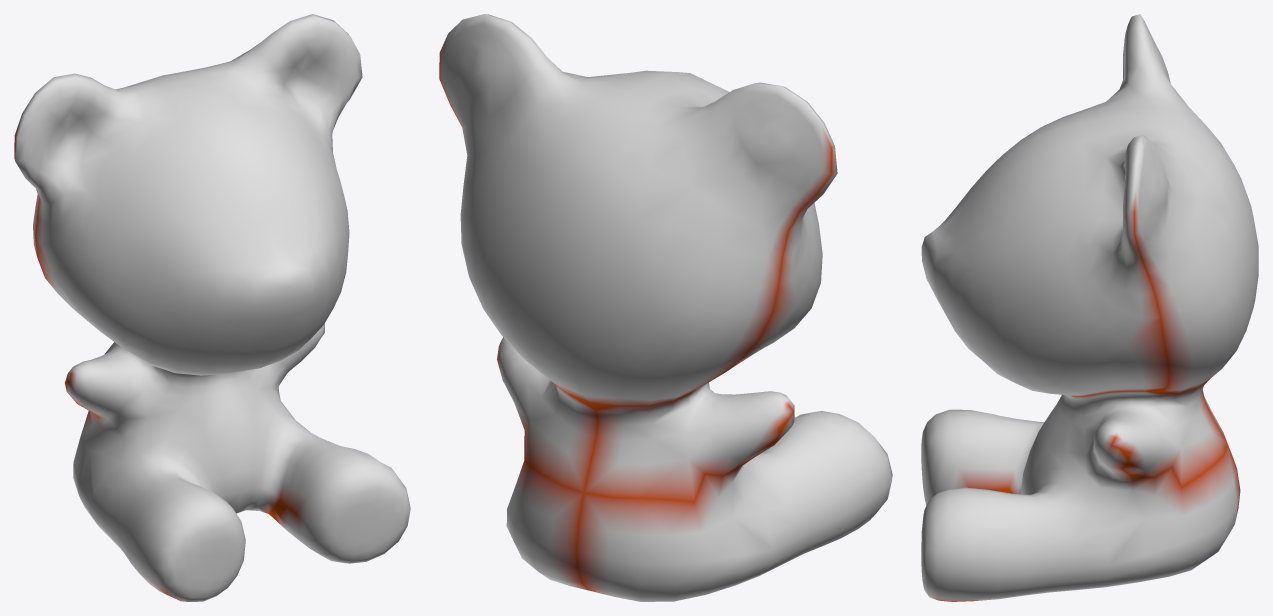
The model's file is Teddy.fbx.fbx.
The picture shows the model from 3 angles, left to right: view 1: azimuth 30°, elevation 25°; view 2: azimuth 150°, elevation 25°; view 3: azimuth 270°, elevation 25°; orthographic projection. The views are drawn at different scales.
Visible parts, largest first — view 1: PM3D_ZSphere_1_SeamsColor; view 2: PM3D_ZSphere_1_SeamsColor; view 3: PM3D_ZSphere_1_SeamsColor.
Part boxes in pixels (x1,y1,x2,y2): PM3D_ZSphere_1_SeamsColor: (14, 14, 410, 601); PM3D_ZSphere_1_SeamsColor: (439, 14, 892, 601); PM3D_ZSphere_1_SeamsColor: (921, 14, 1258, 601).
Size of the model in its own units: 1.3 by 1.66 by 1.06.
